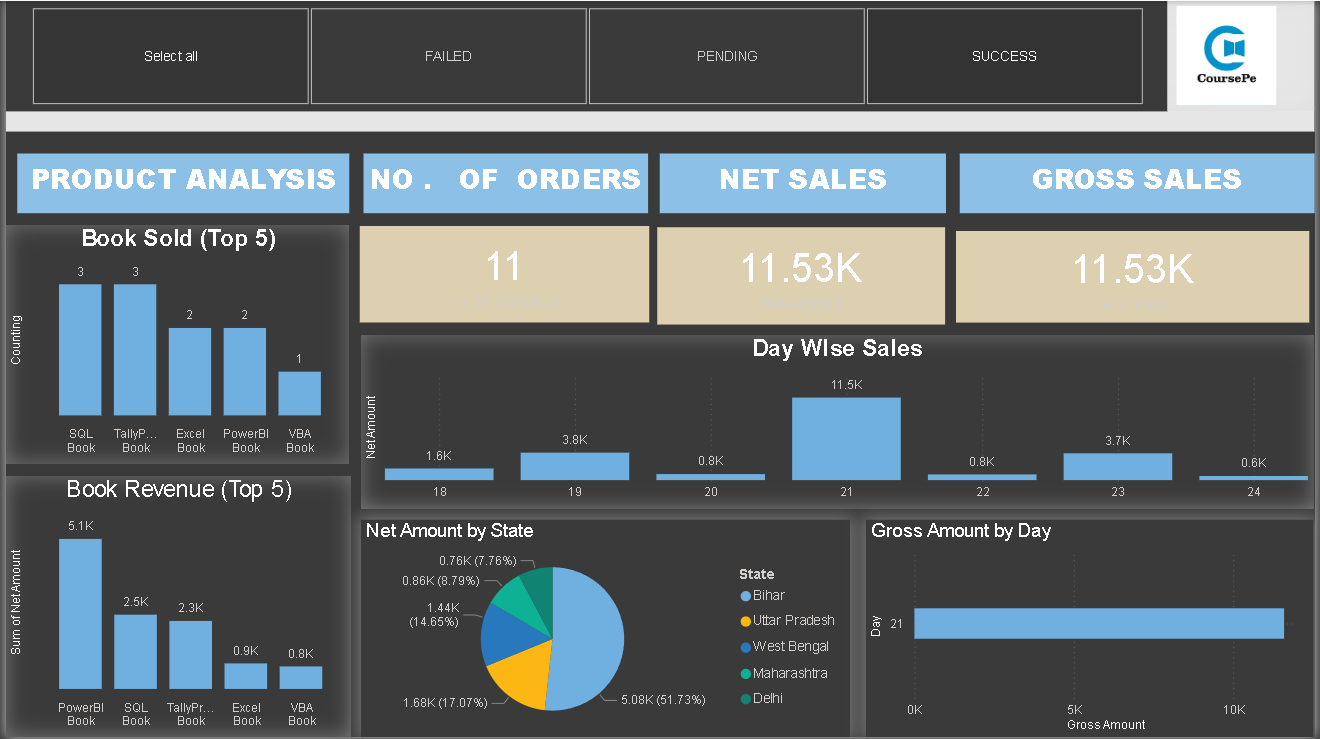

Layout of this report page (visuals, bound fields, positions):
{"tool":"powerbi","page":{"name":"Page 1","canvas":[1280,720],"ordinal":0},"visuals":[{"type":"shape","box":[0,0,1280.3,127.7],"z":0},{"type":"image","box":[1106.1,0,174.2,107.4],"z":1000},{"type":"textbox","box":[11.6,149.5,325.2,58.1],"z":2000},{"type":"textbox","box":[349.8,149.5,278.7,58.1],"z":3000},{"type":"textbox","box":[640.1,149.5,280.2,58.1],"z":4000},{"type":"textbox","box":[933.4,149.5,346.9,58.1],"z":5000},{"type":"clusteredColumnChart","title":"Book  Sold  (Top 5)","fields":{"Category":["7 Days Books Sales Report File (2).Books"],"Y":["CountNonNull(7 Days Books Sales Report File (2).Books)"]},"box":[0,219.2,336.2,233.7],"z":6000},{"type":"slicer","fields":{"Values":["7 Days Books Sales Report File (2).Payment Status"]},"box":[0,0,1104.2,107.6],"z":7000},{"type":"clusteredColumnChart","title":"Book    Revenue  (Top 5)","fields":{"Category":["7 Days Books Sales Report File (2).Books"],"Y":["Sum(7 Days Books Sales Report File (2).Net Amount)"]},"box":[0,464.5,337.6,255.5],"z":8000},{"type":"clusteredColumnChart","title":"Day WIse  Sales","fields":{"Category":["7 Days Books Sales Report File (2).Order Date.Variation.Date Hierarchy.Day"],"Y":["Sum(7 Days Books Sales Report File (2).Net Amount)"]},"box":[346.9,326.6,931.6,170.4],"z":9000},{"type":"card","fields":{"Values":["CountNonNull(7 Days Books Sales Report File (2).OrderId)"]},"box":[345.5,220.6,283.1,94.4],"z":10000},{"type":"card","fields":{"Values":["Sum(7 Days Books Sales Report File (2).Net Amount)"]},"box":[637.2,221.5,281.6,94.9],"z":11000},{"type":"card","fields":{"Values":["Sum(7 Days Books Sales Report File (2).Net Amount)"]},"box":[929,225,345.5,90],"z":12000},{"type":"pieChart","fields":{"Category":["7 Days Books Sales Report File (2).State"],"Y":["Sum(7 Days Books Sales Report File (2).Net Amount)"]},"box":[347.3,507.5,478.1,212.8],"z":13000},{"type":"clusteredBarChart","fields":{"Category":["7 Days Books Sales Report File (2).Order Date.Variation.Date Hierarchy.Day"],"Y":["Sum(7 Days Books Sales Report File (2).Gross Amount)"]},"box":[841.3,507.5,437.8,212.8],"z":14000}]}

Visuals, with their boxes in screenshot pixels (x1, y1, x2, y2), scaled from the page's 1280x720 canvas onto the 1320x739 screenshot:
shape: x1=0 y1=0 x2=1319 y2=131
image: x1=1141 y1=0 x2=1319 y2=110
textbox: x1=12 y1=153 x2=347 y2=213
textbox: x1=361 y1=153 x2=648 y2=213
textbox: x1=660 y1=153 x2=949 y2=213
textbox: x1=963 y1=153 x2=1319 y2=213
"Book  Sold  (Top 5)" clusteredColumnChart: x1=0 y1=225 x2=347 y2=465
slicer - 7 Days Books Sales Report File (2).Payment Status: x1=0 y1=0 x2=1139 y2=110
"Book    Revenue  (Top 5)" clusteredColumnChart: x1=0 y1=477 x2=348 y2=738
"Day WIse  Sales" clusteredColumnChart: x1=358 y1=335 x2=1318 y2=510
card - CountNonNull(7 Days Books Sales Report File (2).OrderId): x1=356 y1=226 x2=648 y2=323
card - Sum(7 Days Books Sales Report File (2).Net Amount): x1=657 y1=227 x2=948 y2=325
card - Sum(7 Days Books Sales Report File (2).Net Amount): x1=958 y1=231 x2=1314 y2=323
pieChart - 7 Days Books Sales Report File (2).State x Sum(7 Days Books Sales Report File (2).Net Amount): x1=358 y1=521 x2=851 y2=738
clusteredBarChart - 7 Days Books Sales Report File (2).Order Date.Variation.Date Hierarchy.Day x Sum(7 Days Books Sales Report File (2).Gross Amount): x1=868 y1=521 x2=1319 y2=738
